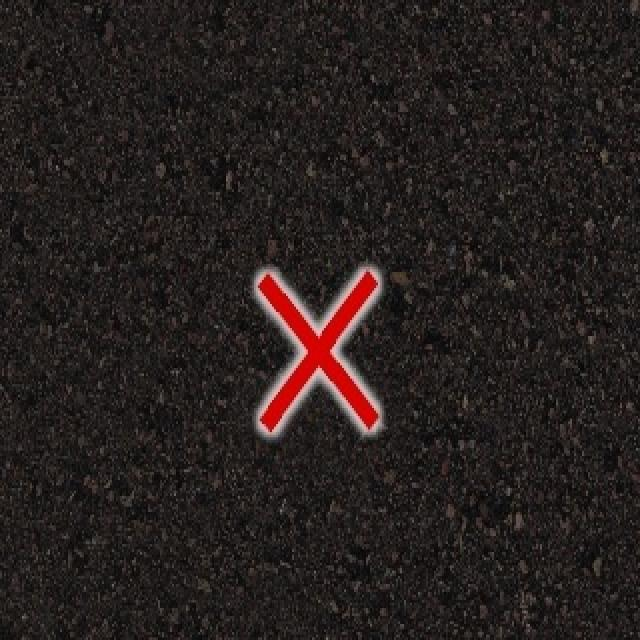x_marker: (257, 270, 377, 430)
